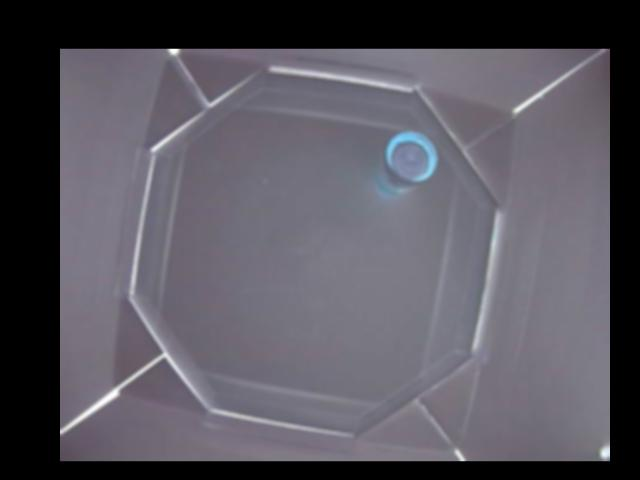Bottle: (377, 130, 440, 195)
